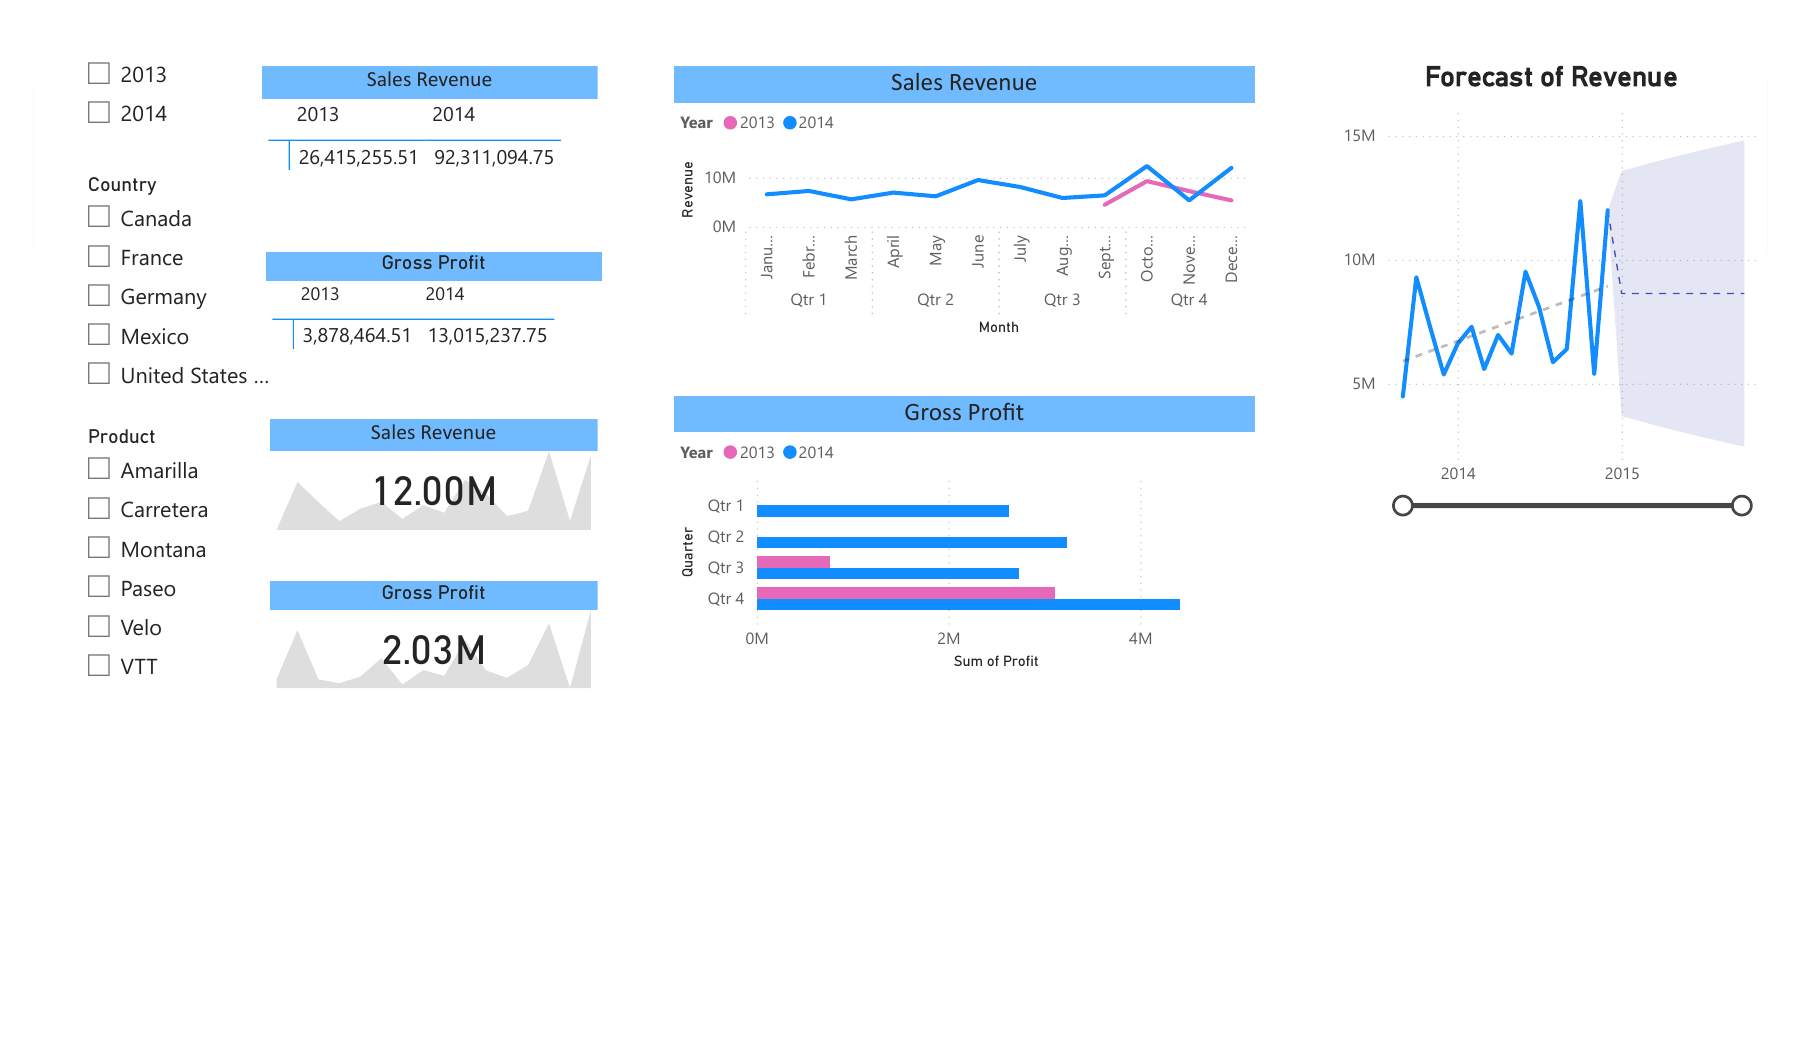

The dashboard page shown, as its layout file describes it:
{"tool":"powerbi","page":{"name":"financials","canvas":[1280,720],"ordinal":6},"visuals":[{"type":"pivotTable","title":"Sales Revenue","fields":{"Columns":["financials.Date.Variation.Date Hierarchy.Year","financials.Date.Variation.Date Hierarchy.Quarter","financials.Date.Variation.Date Hierarchy.Month","financials.Date.Variation.Date Hierarchy.Day"],"Values":["Sum(financials. Sales)"]},"box":[169.1,24.5,248.2,109.1],"z":0},{"type":"lineChart","title":"Sales Revenue","fields":{"Category":["financials.Date.Variation.Date Hierarchy.Quarter","financials.Date.Variation.Date Hierarchy.Month","financials.Date.Variation.Date Hierarchy.Day"],"Series":["financials.Date.Variation.Date Hierarchy.Year"],"Y":["Sum(financials. Sales)"]},"box":[472.7,24.5,429.1,204.5],"z":1000},{"type":"slicer","fields":{"Values":["financials.Product"]},"box":[27.6,285.1,158.6,212.6],"z":2000},{"type":"slicer","fields":{"Values":["financials.Country"]},"box":[27.6,98.9,158.6,174.7],"z":3000},{"type":"slicer","fields":{"Values":["financials.Year"]},"box":[27.6,11.5,120.7,75.9],"z":4000},{"type":"kpi","title":"Gross Profit","fields":{"Indicator":["Sum(financials.Profit)"],"TrendLine":["financials.Date"]},"box":[174.5,404.5,242.7,84.5],"z":5000},{"type":"kpi","title":"Sales Revenue","fields":{"Indicator":["Sum(financials. Sales)"],"TrendLine":["financials.Date"]},"box":[174.5,285.5,242.7,86.4],"z":6000},{"type":"clusteredBarChart","title":"Gross Profit","fields":{"Category":["financials.Date.Variation.Date Hierarchy.Quarter","financials.Date.Variation.Date Hierarchy.Month","financials.Date.Variation.Date Hierarchy.Day"],"Series":["financials.Year"],"Y":["Sum(financials.Profit)"]},"box":[472.7,268.2,429.1,206.4],"z":7000},{"type":"pivotTable","title":"Gross Profit","fields":{"Columns":["financials.Year"],"Values":["Sum(financials.Profit)"]},"box":[171.8,161.8,248.2,80.9],"z":8000},{"type":"lineChart","title":"Forecast of Revenue  ","fields":{"Category":["financials.Date.Variation.Date Hierarchy.Year","financials.Date.Variation.Date Hierarchy.Quarter","financials.Date.Variation.Date Hierarchy.Month","financials.Date.Variation.Date Hierarchy.Day"],"Y":["Sum(financials. Sales)"]},"box":[961.8,20.9,318.2,339.1],"z":9000}]}

Visuals, with their boxes in screenshot pixels (x1, y1, x2, y2), scaled from the page's 1280x720 canvas onto the 1800x1041 screenshot:
"Sales Revenue" pivotTable: crop(238, 35, 587, 193)
"Sales Revenue" lineChart: crop(665, 35, 1268, 331)
slicer - financials.Product: crop(39, 412, 262, 720)
slicer - financials.Country: crop(39, 143, 262, 396)
slicer - financials.Year: crop(39, 17, 209, 126)
"Gross Profit" kpi: crop(245, 585, 587, 707)
"Sales Revenue" kpi: crop(245, 413, 587, 538)
"Gross Profit" clusteredBarChart: crop(665, 388, 1268, 686)
"Gross Profit" pivotTable: crop(242, 234, 591, 351)
"Forecast of Revenue  " lineChart: crop(1353, 30, 1799, 520)
